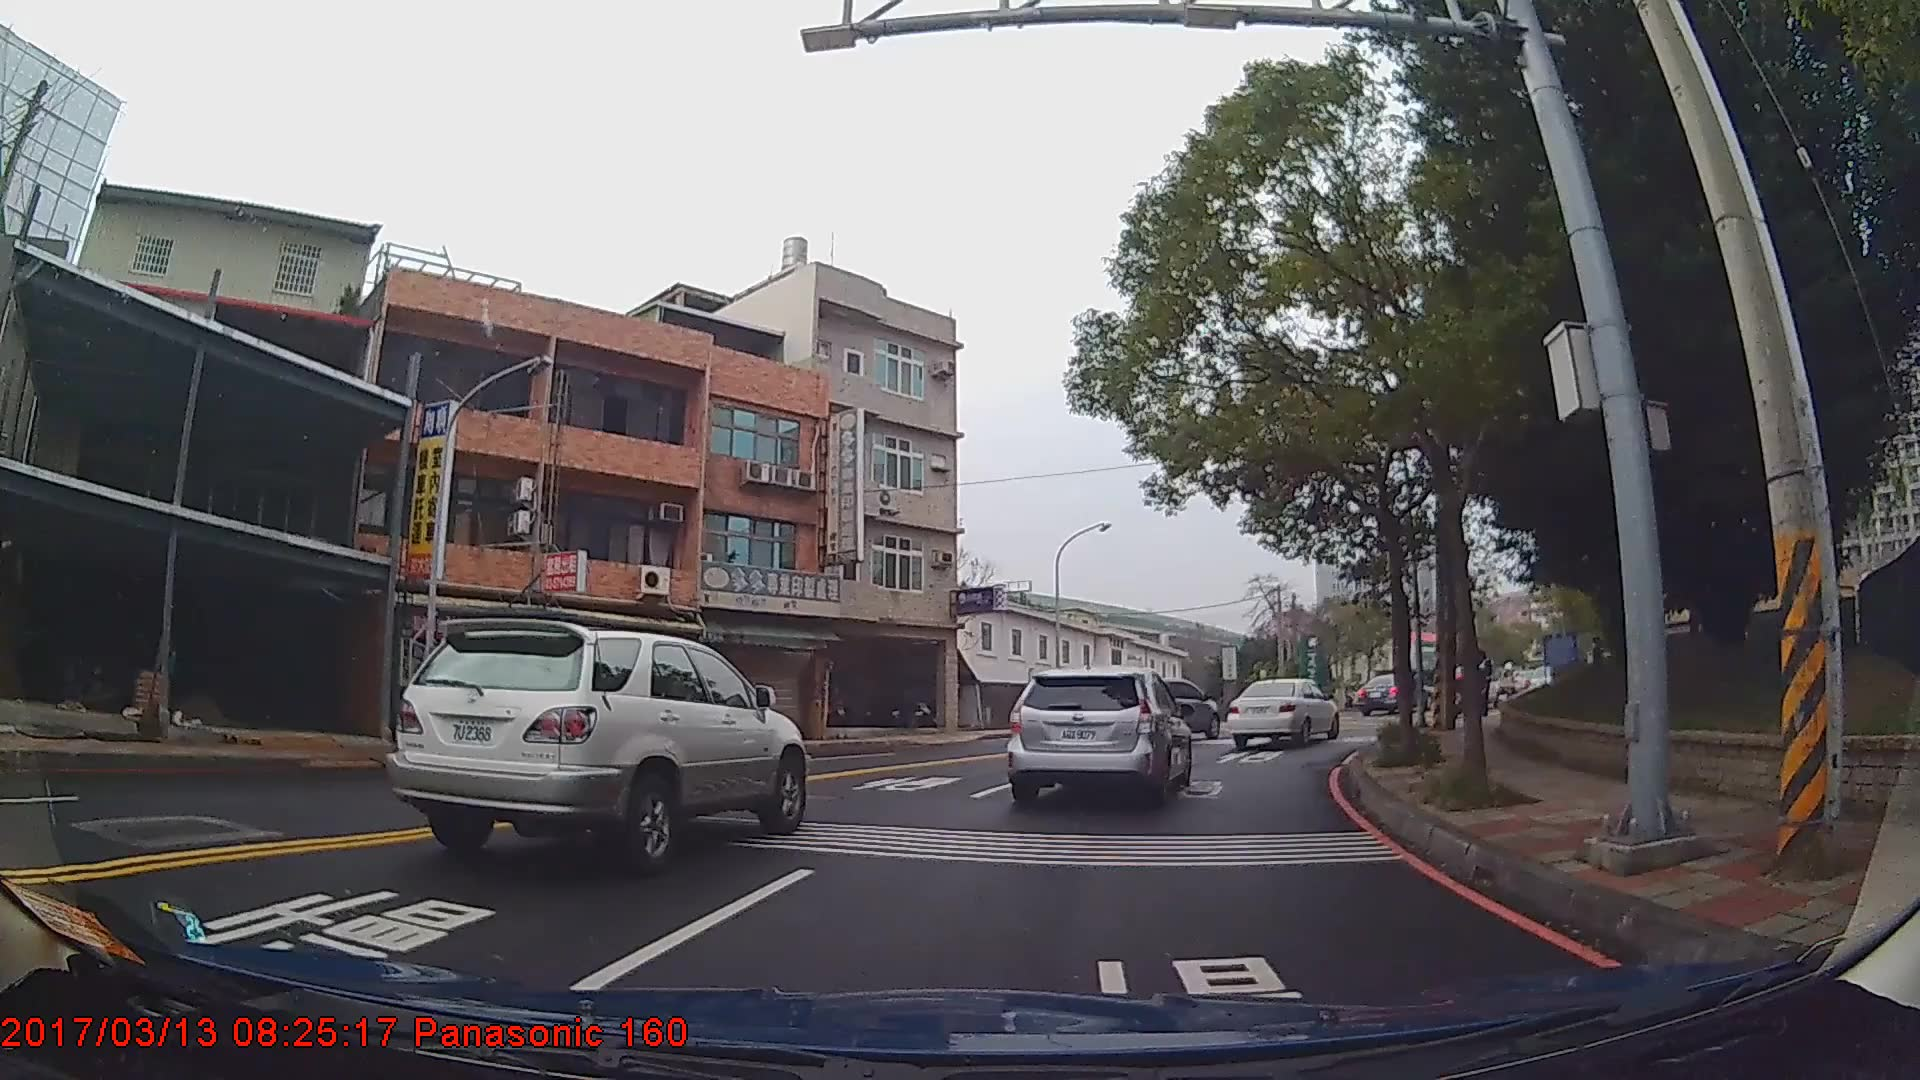vehicle: (390, 616, 808, 872), (1000, 665, 1188, 812), (1221, 675, 1337, 746), (1127, 676, 1218, 738), (1356, 673, 1422, 716)
